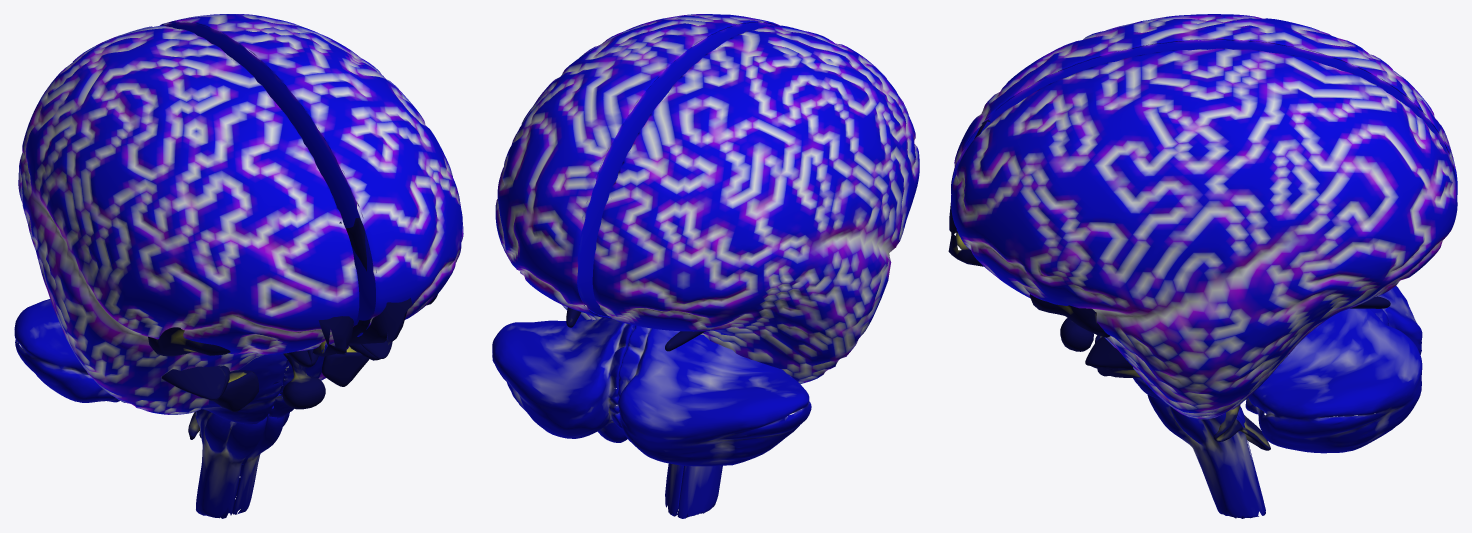
The model's file is brain.glb.
3 renders of one model, left to right at view 1: azimuth 30°, elevation 25°; view 2: azimuth 150°, elevation 25°; view 3: azimuth 270°, elevation 25°, orthographic. The views are drawn at different scales.
Visible parts, largest first — view 1: left-superior-frontal-gyrus, right-superior-frontal-gyrus, left-middle-temporal-gyrus, left-precentral-gyrus, left-superior-parietal-lobule, left-postcentral-gyrus, cerebellum2, medulla-oblongata2, left-occipital-lobe, right-precentral-gyrus, pons2, right-cingulate-gyrus (+12 smaller); view 2: left-occipital-lobe, right-occipital-lobe, cerebellum2, cerebellum, left-superior-parietal-lobule, left-middle-temporal-gyrus, left-superior-frontal-gyrus, left-postcentral-gyrus, left-precentral-gyrus, right-superior-parietal-lobule, right-postcentral-gyrus, posterior-part-of-superior-temporal-gyrus (+6 smaller); view 3: right-superior-frontal-gyrus, right-occipital-lobe, right-middle-temporal-gyrus, cerebellum, right-superior-parietal-lobule, right-precentral-gyrus, right-postcentral-gyrus, left-superior-frontal-gyrus, medulla-oblongata, left-occipital-lobe, left-precentral-gyrus, left-superior-parietal-lobule (+7 smaller).
Boxes of the visible parts, box(x1,y1,x2,y2) form: left-superior-frontal-gyrus: box(106, 68, 359, 371); right-superior-frontal-gyrus: box(261, 56, 463, 346); left-middle-temporal-gyrus: box(31, 238, 259, 414); left-precentral-gyrus: box(78, 48, 244, 322); left-superior-parietal-lobule: box(22, 28, 208, 404); left-postcentral-gyrus: box(55, 36, 219, 290); cerebellum2: box(14, 299, 132, 404); medulla-oblongata2: box(195, 409, 267, 518); left-occipital-lobe: box(18, 25, 175, 205); right-precentral-gyrus: box(238, 35, 405, 96); pons2: box(202, 353, 287, 424); right-cingulate-gyrus: box(345, 217, 412, 345); left-occipital-lobe: box(592, 97, 790, 331); right-occipital-lobe: box(495, 86, 647, 318); cerebellum2: box(618, 325, 811, 466); cerebellum: box(492, 317, 648, 442); left-superior-parietal-lobule: box(662, 73, 860, 334); left-middle-temporal-gyrus: box(703, 241, 898, 383); left-superior-frontal-gyrus: box(731, 25, 919, 225); left-postcentral-gyrus: box(686, 54, 886, 252); left-precentral-gyrus: box(706, 38, 904, 247); right-superior-parietal-lobule: box(512, 60, 672, 143); right-postcentral-gyrus: box(552, 39, 695, 84); posterior-part-of-superior-temporal-gyrus: box(779, 242, 862, 296); right-superior-frontal-gyrus: box(951, 50, 1174, 318); right-occipital-lobe: box(1311, 61, 1457, 308); right-middle-temporal-gyrus: box(1096, 273, 1348, 419); cerebellum: box(1245, 308, 1422, 453); right-superior-parietal-lobule: box(1217, 52, 1340, 290); right-precentral-gyrus: box(1112, 48, 1224, 317); right-postcentral-gyrus: box(1167, 48, 1267, 307); left-superior-frontal-gyrus: box(951, 16, 1173, 193); medulla-oblongata: box(1147, 395, 1265, 518); left-occipital-lobe: box(1311, 28, 1457, 190); left-precentral-gyrus: box(1166, 14, 1224, 50); left-superior-parietal-lobule: box(1266, 18, 1319, 61).
Bounding box in the file's own units: 1.39 × 1.81 × 1.78.
